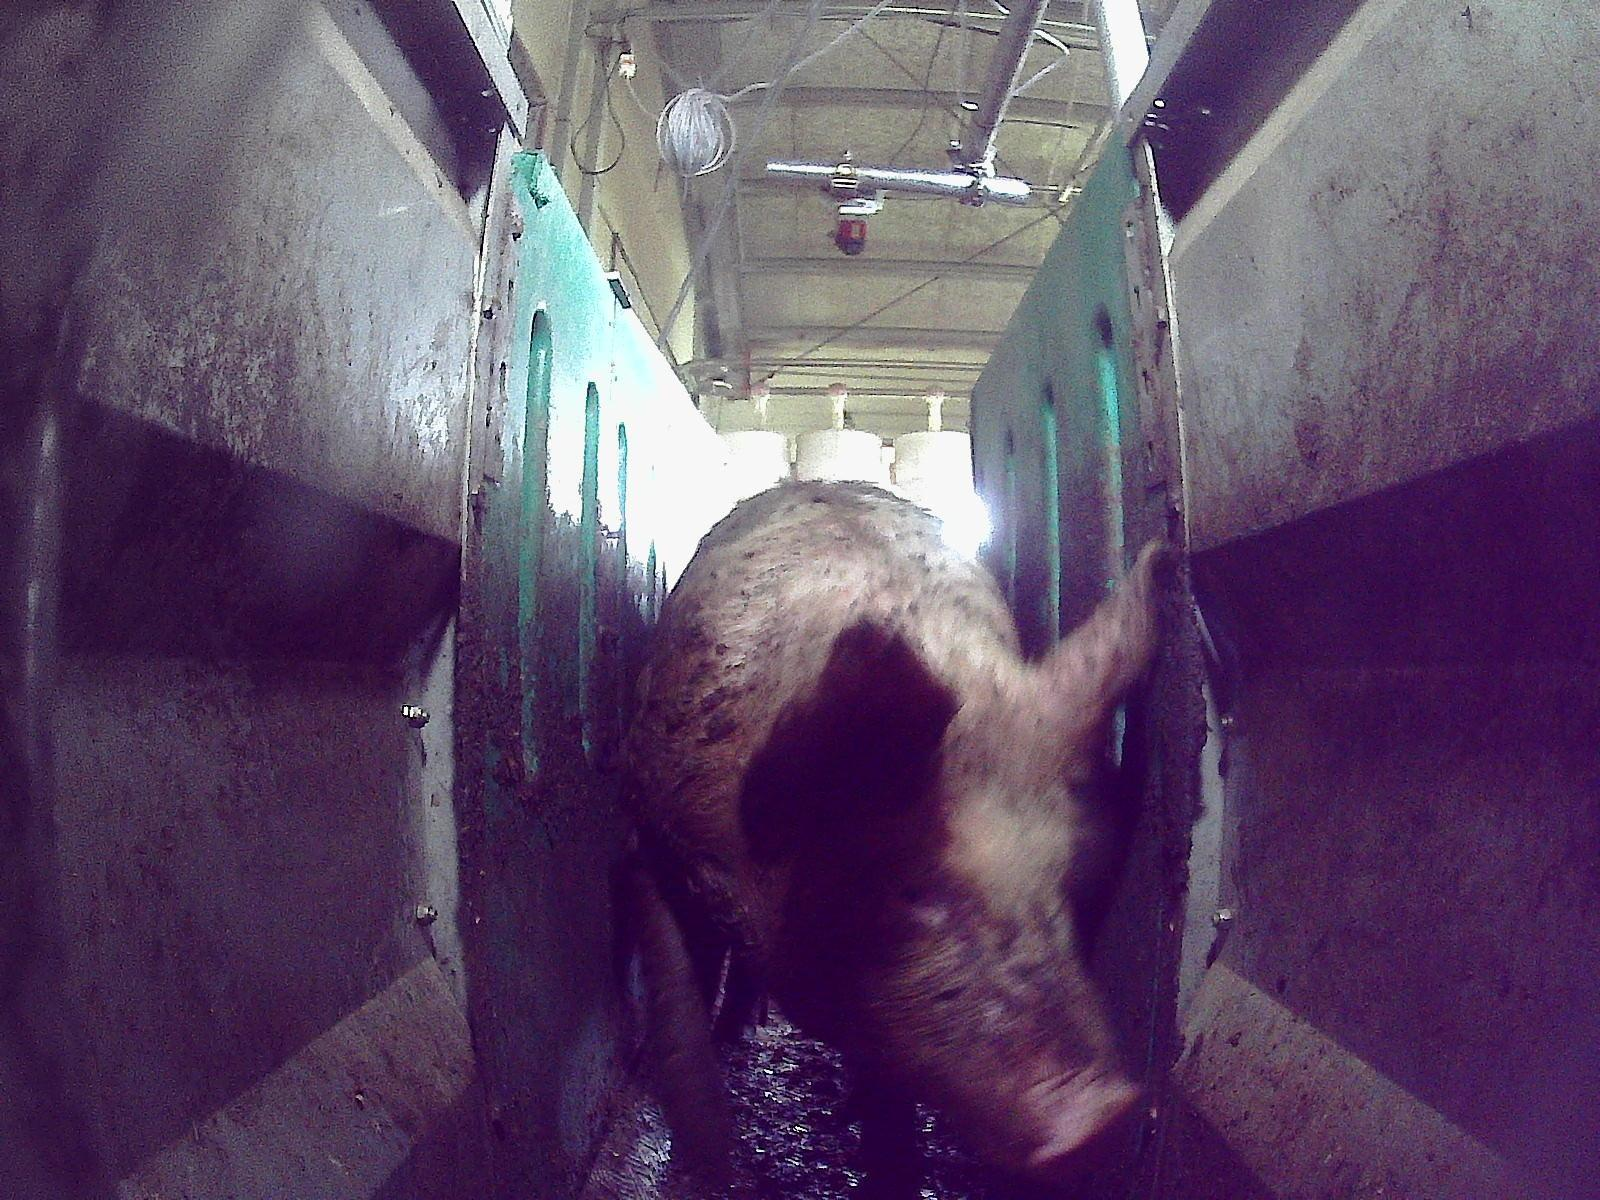Face: (794, 741, 1142, 1169)
